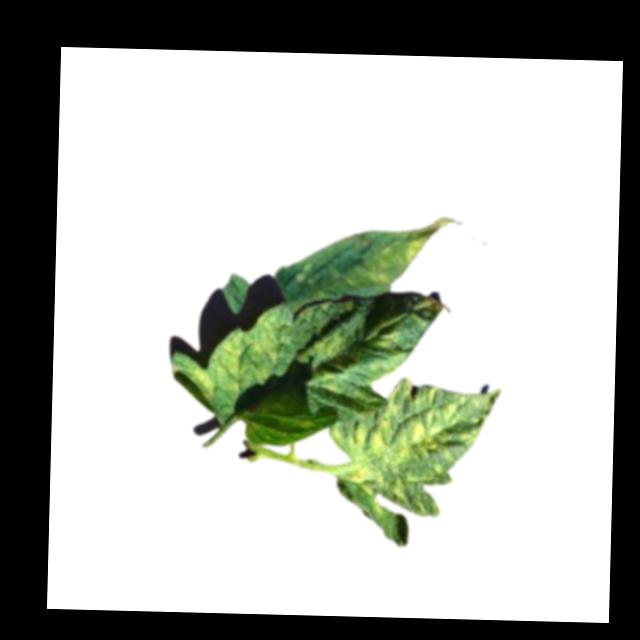Leaf_Mold: (325, 377, 502, 519), (171, 307, 280, 402), (357, 216, 459, 288)
